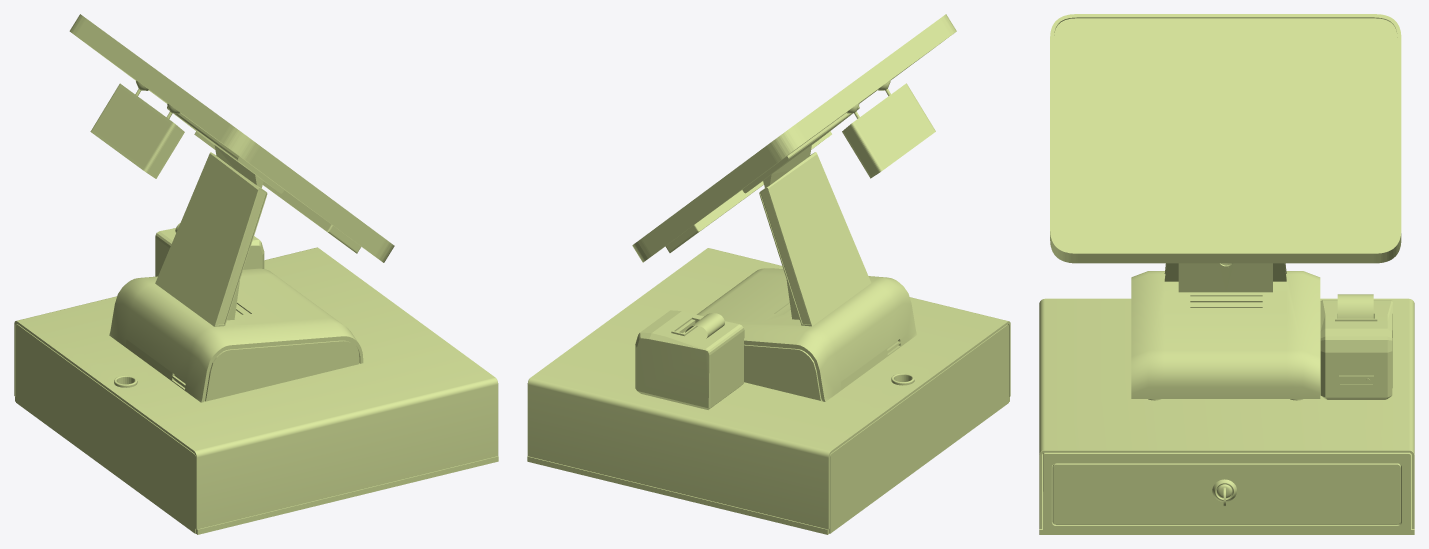
File: POSs new.obj
The picture shows the model from 3 angles, left to right: view 1: azimuth 30°, elevation 25°; view 2: azimuth 150°, elevation 25°; view 3: azimuth 270°, elevation 25°; orthographic projection. The views are drawn at different scales.
Parts seen in each view (by area): view 1: Object017, Line005, Object016, Box009, Box008, Box007, Plane003; view 2: Object017, Line005, Object016, Box007, Box009, Box008, Plane003; view 3: Box009, Object017, Line005, Object015, Object016, Box007, Object014, Arc002.
Boxes of the visible parts, bbox=[...] form: Object017: bbox=[14, 247, 498, 529]; Line005: bbox=[109, 106, 363, 402]; Object016: bbox=[15, 324, 498, 534]; Box009: bbox=[69, 14, 394, 262]; Box008: bbox=[90, 83, 184, 178]; Box007: bbox=[155, 228, 264, 276]; Plane003: bbox=[194, 131, 361, 253]; Object017: bbox=[527, 248, 1010, 529]; Line005: bbox=[697, 106, 916, 401]; Object016: bbox=[527, 324, 1009, 534]; Box007: bbox=[635, 310, 744, 409]; Box009: bbox=[632, 14, 956, 262]; Box008: bbox=[842, 83, 935, 178]; Plane003: bbox=[665, 131, 831, 252]; Box009: bbox=[1050, 14, 1401, 263]; Object017: bbox=[1039, 298, 1414, 528]; Line005: bbox=[1131, 263, 1320, 398]; Object015: bbox=[1052, 463, 1400, 524]; Object016: bbox=[1039, 452, 1414, 534]; Box007: bbox=[1320, 300, 1392, 399]; Object014: bbox=[1178, 263, 1272, 292]; Arc002: bbox=[1337, 294, 1373, 318].
Bounding box in the file's own units: 15.17 × 17.3 × 14.87.
